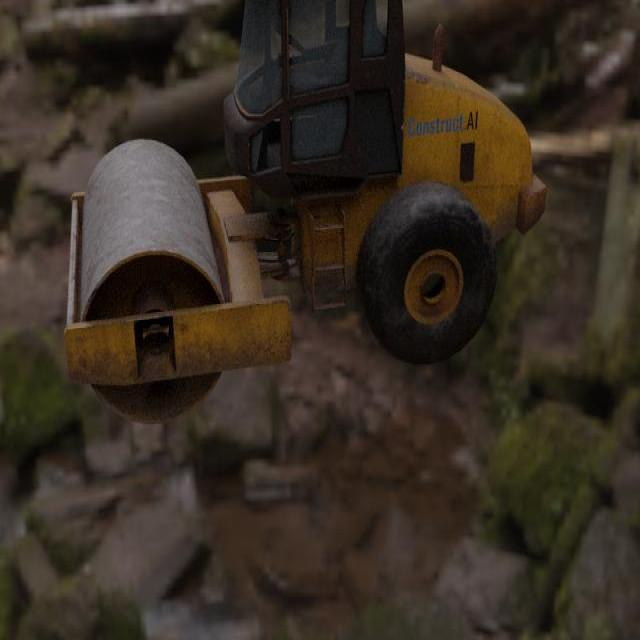Roller: (63, 0, 547, 425)
